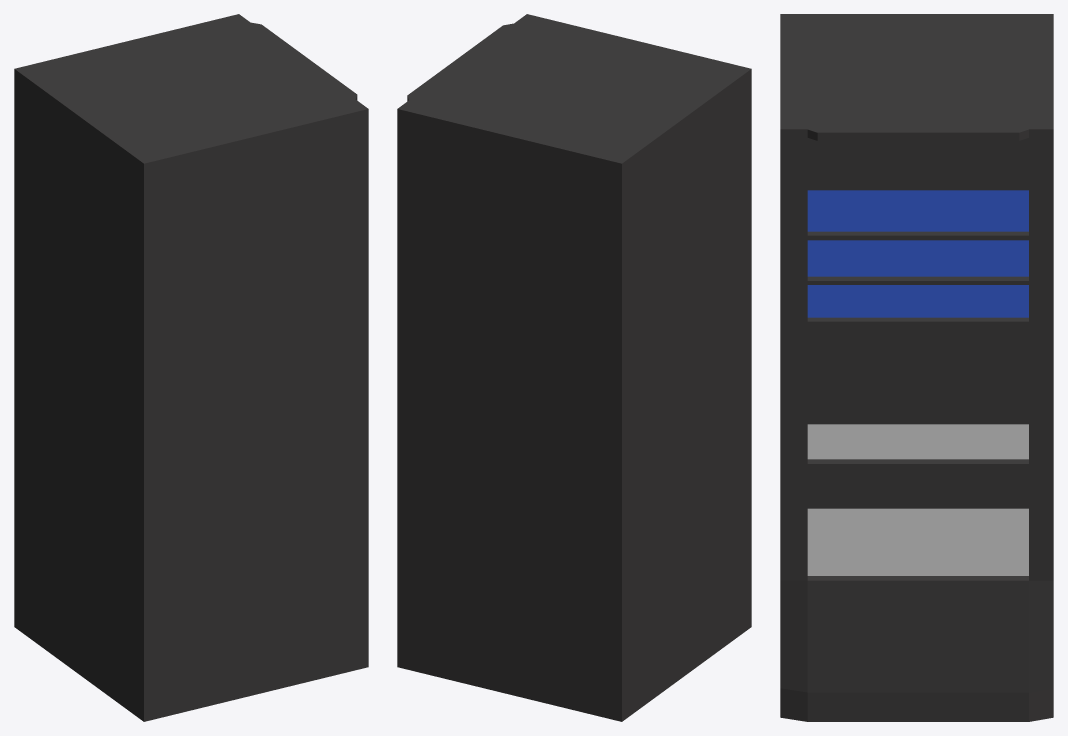
The model's file is Server.fbx.
The picture shows the model from 3 angles, left to right: view 1: azimuth 30°, elevation 25°; view 2: azimuth 150°, elevation 25°; view 3: azimuth 270°, elevation 25°; orthographic projection. The views are drawn at different scales.
Visible parts, largest first — view 1: Cube.001; view 2: Cube.001; view 3: Cube.001.
Boxes of the visible parts, <box> form: Cube.001: <box>14,14,368,721</box>; Cube.001: <box>397,14,751,721</box>; Cube.001: <box>780,14,1053,721</box>.
Size of the model in its own units: 207 by 475 by 200.
